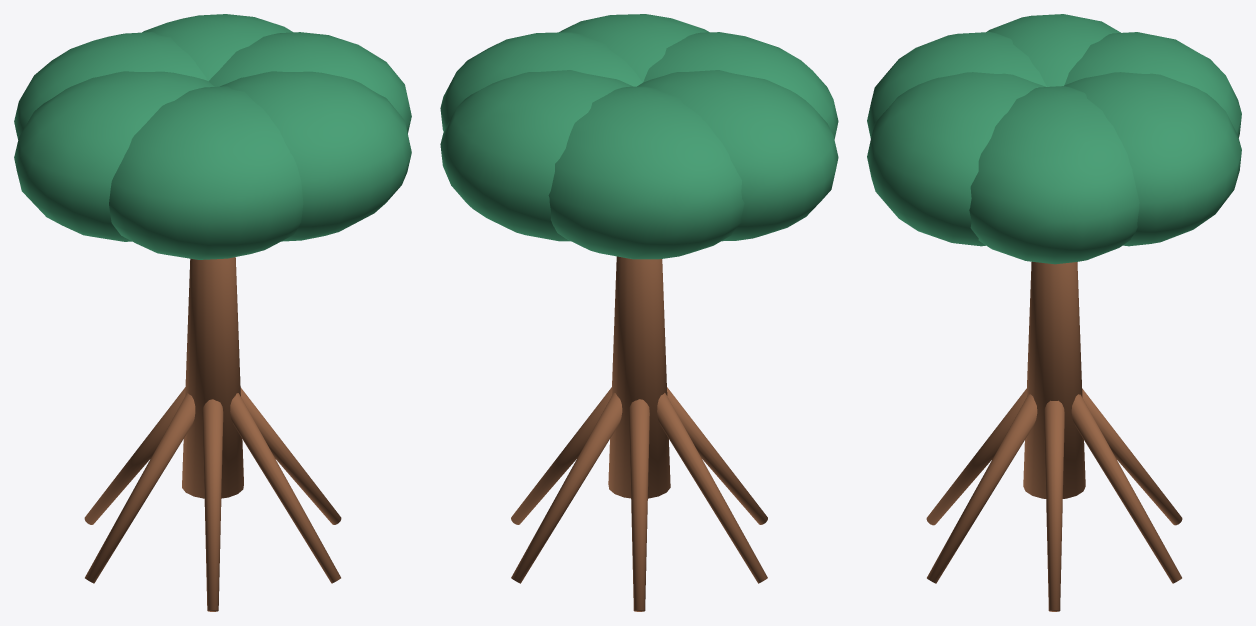
Rendered from Mangrove_tree_LOD1.glb.
3 renders of one model, left to right at view 1: azimuth 30°, elevation 25°; view 2: azimuth 150°, elevation 25°; view 3: azimuth 270°, elevation 25°, orthographic.
Visible parts, largest first — view 1: Canopy.004, Canopy.005, Canopy.003, Trunk, Canopy, Canopy.002, Canopy.001, Stilt root.004, Stilt root.005, Stilt root.003, Stilt root.002, Stilt root; view 2: Canopy.002, Canopy.001, Canopy.003, Trunk, Canopy, Canopy.004, Canopy.005, Stilt root.002, Stilt root.001, Stilt root.003, Stilt root.004, Stilt root; view 3: Canopy, Canopy.001, Canopy.005, Trunk, Canopy.004, Canopy.002, Canopy.003, Stilt root, Stilt root.001, Stilt root.005, Stilt root.004, Stilt root.002.
Boxes of the visible parts, x1,y1,x2,y2 form: Canopy.004: [109, 86, 303, 259]; Canopy.005: [220, 71, 411, 241]; Canopy.003: [14, 71, 214, 241]; Trunk: [182, 257, 243, 498]; Canopy: [208, 32, 411, 133]; Canopy.002: [14, 32, 206, 139]; Canopy.001: [142, 14, 292, 81]; Stilt root.004: [202, 399, 223, 611]; Stilt root.005: [230, 393, 340, 583]; Stilt root.003: [85, 393, 195, 583]; Stilt root.002: [84, 387, 185, 524]; Stilt root: [240, 387, 341, 524]; Canopy.002: [548, 86, 744, 259]; Canopy.001: [440, 70, 632, 241]; Canopy.003: [637, 70, 838, 241]; Trunk: [608, 256, 670, 498]; Canopy: [440, 32, 642, 131]; Canopy.004: [643, 32, 838, 139]; Canopy.005: [559, 14, 709, 82]; Stilt root.002: [629, 399, 649, 611]; Stilt root.001: [511, 393, 622, 583]; Stilt root.003: [657, 393, 767, 583]; Stilt root.004: [667, 387, 767, 524]; Stilt root: [511, 387, 611, 524]; Canopy: [969, 86, 1139, 264]; Canopy.001: [1064, 72, 1241, 246]; Canopy.005: [867, 72, 1045, 246]; Trunk: [1023, 261, 1085, 498]; Canopy.004: [867, 32, 1046, 138]; Canopy.002: [1064, 32, 1241, 137]; Canopy.003: [986, 14, 1120, 86]; Stilt root: [1044, 400, 1064, 611]; Stilt root.001: [1071, 394, 1181, 583]; Stilt root.005: [927, 394, 1037, 583]; Stilt root.004: [926, 388, 1026, 525]; Stilt root.002: [1082, 388, 1182, 525].
Bounding box in the file's own units: 3 × 3.77 × 2.64.
